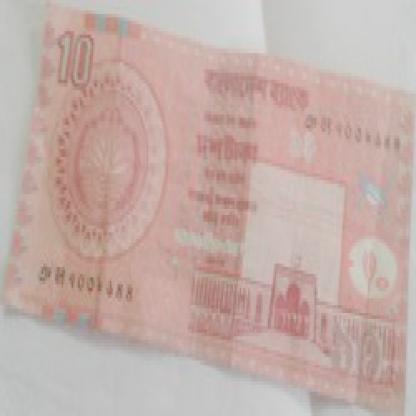Ten Taka: (329, 295, 384, 395), (53, 21, 100, 104)
